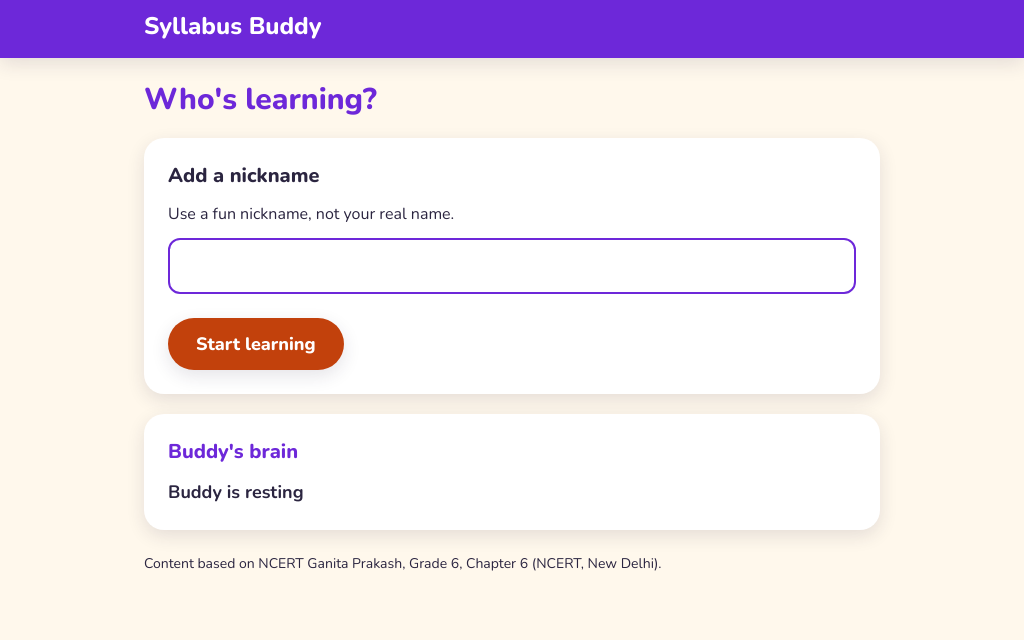
LearnerApp › shows the banner when saving progress fails
Expected: the text "Progress won't be saved on this device" is not shown
Type "Riya" into the field labelled "Add a nickname" at coordinates (512, 266), box [168,238,856,294]
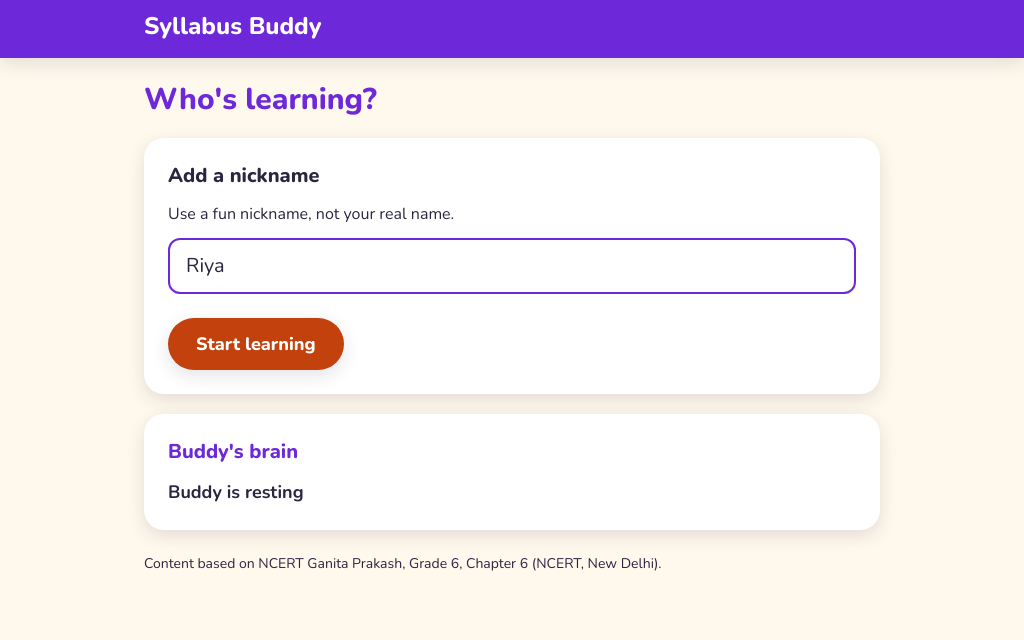
Click the button "Start learning" at coordinates (256, 344), box [168,318,344,370]
(page scrolled)
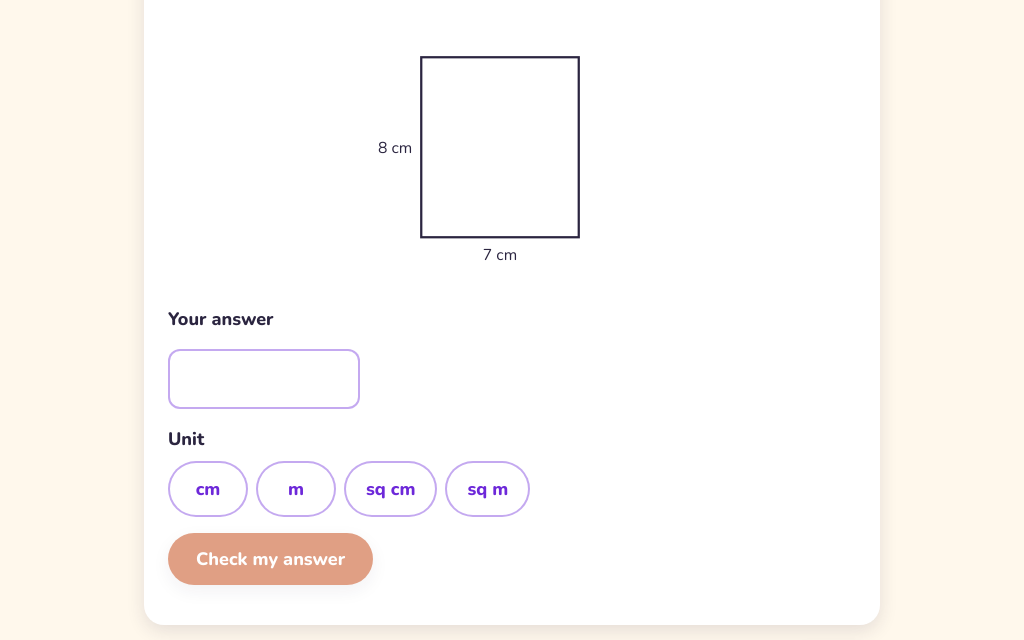
Type "999999" into the field labelled "Your answer" at coordinates (264, 379), box [168,349,360,409]
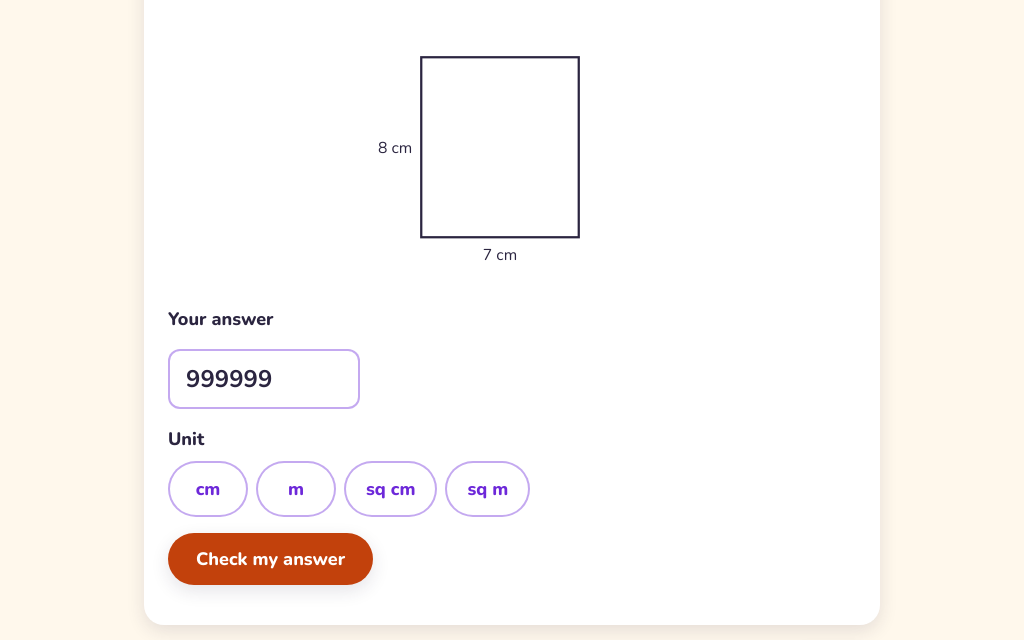
Click the button "cm" at coordinates (208, 489), box [168,461,248,517]
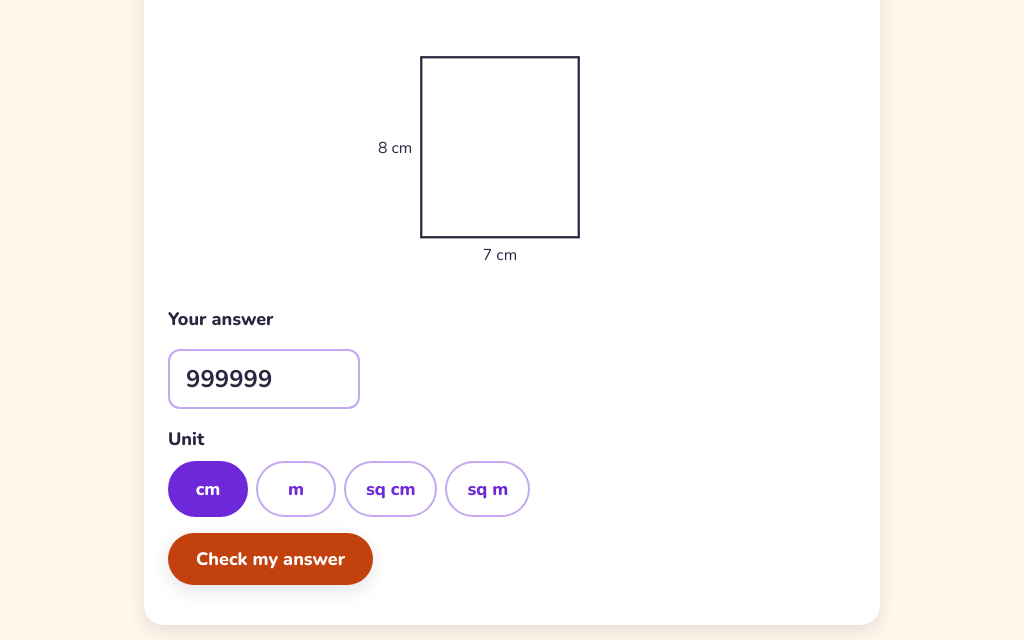
Click the button "Check my answer" at coordinates (271, 559), box [168,533,373,585]
(page scrolled)
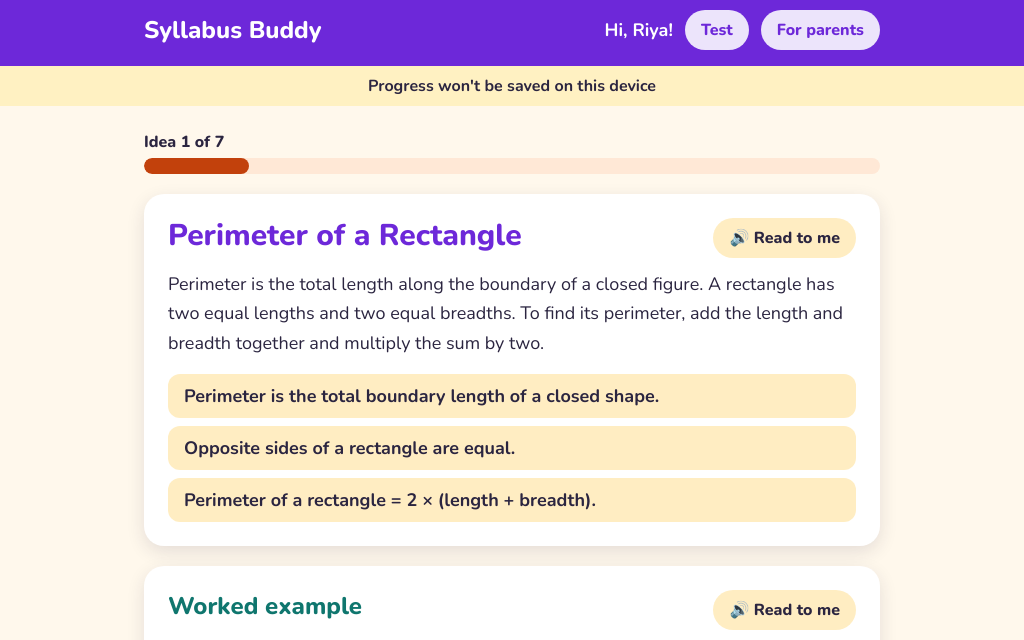
Now the text "Progress won't be saved on this device" is shown, box [0,66,1023,106]
